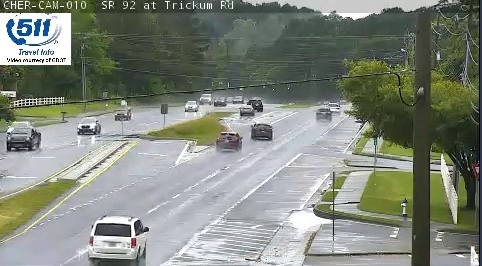car: (89, 217, 147, 260), (216, 132, 240, 149), (252, 124, 273, 139), (316, 108, 330, 120)
